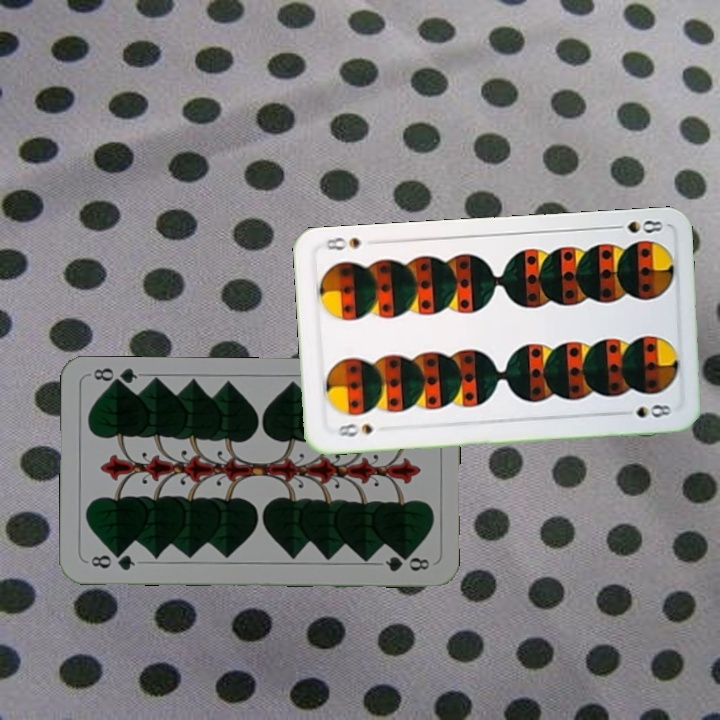G8: (87, 549, 138, 573)
S8: (607, 215, 666, 236), (334, 419, 376, 439)
